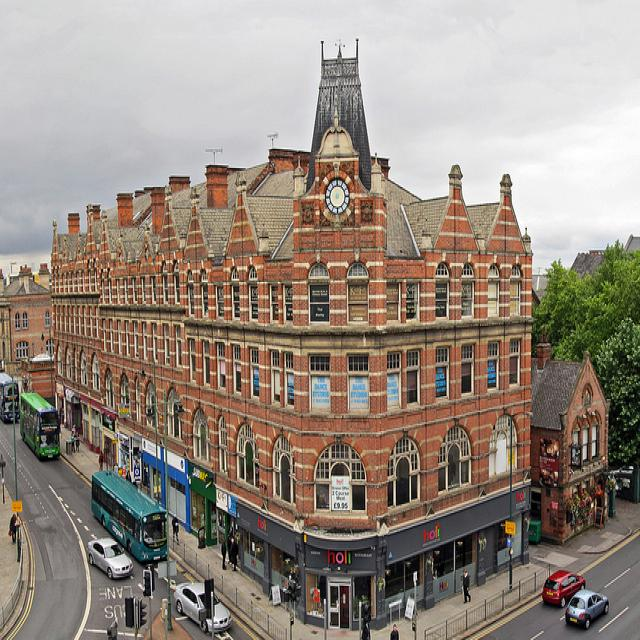Vehicle: (90, 462, 168, 568), (172, 581, 233, 635), (19, 390, 59, 460), (85, 536, 134, 580), (539, 567, 587, 609), (566, 589, 610, 630), (0, 371, 20, 423)
